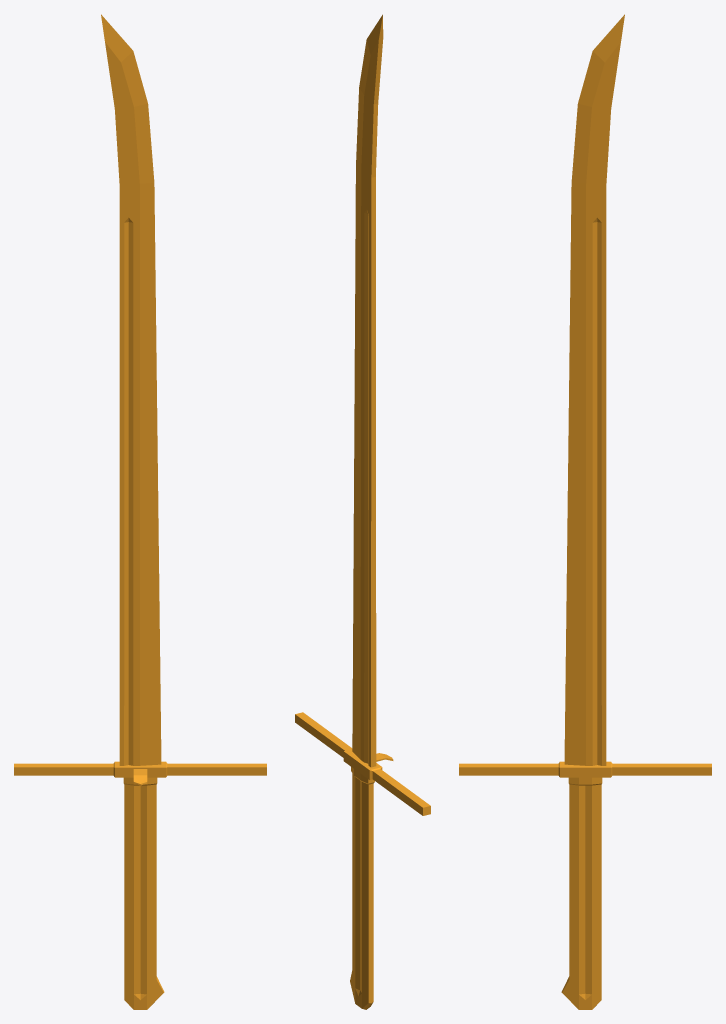
The model's file is SM_Sword_Messer_A.fbx.
3 renders of one model, left to right at view 1: azimuth 90°, elevation 25°; view 2: azimuth 210°, elevation 25°; view 3: azimuth 270°, elevation 25°, orthographic.
Parts seen in each view (by area): view 1: sword-messer-a; view 2: sword-messer-a; view 3: sword-messer-a.
Boxes of the visible parts, x1=… form: sword-messer-a: x1=14, y1=14, x2=266, y2=1009; sword-messer-a: x1=295, y1=14, x2=430, y2=1009; sword-messer-a: x1=459, y1=14, x2=711, y2=1009.
Size of the model in its own units: 0.0447 by 1.21 by 0.2778.
